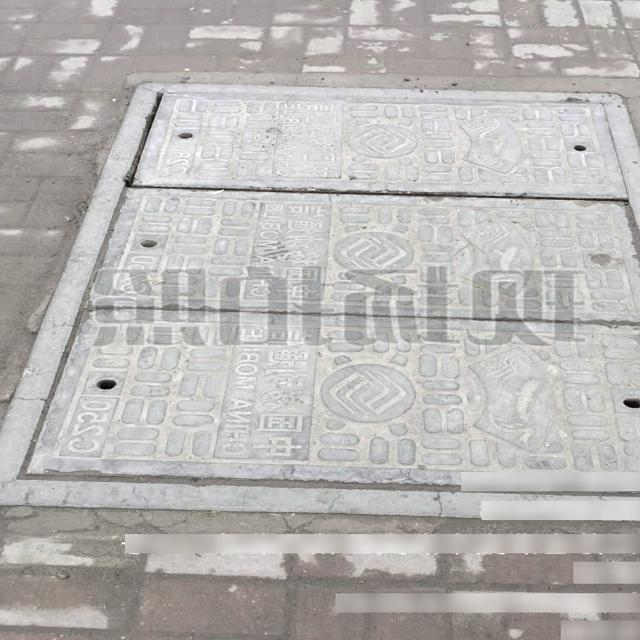good: (0, 80, 640, 522)
